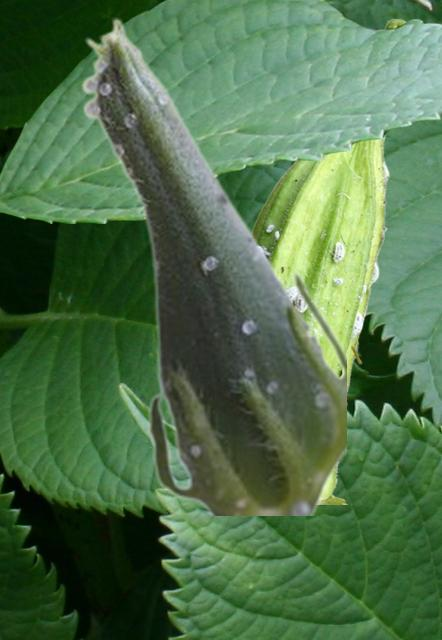okra: (80, 17, 345, 514), (251, 19, 407, 503)
